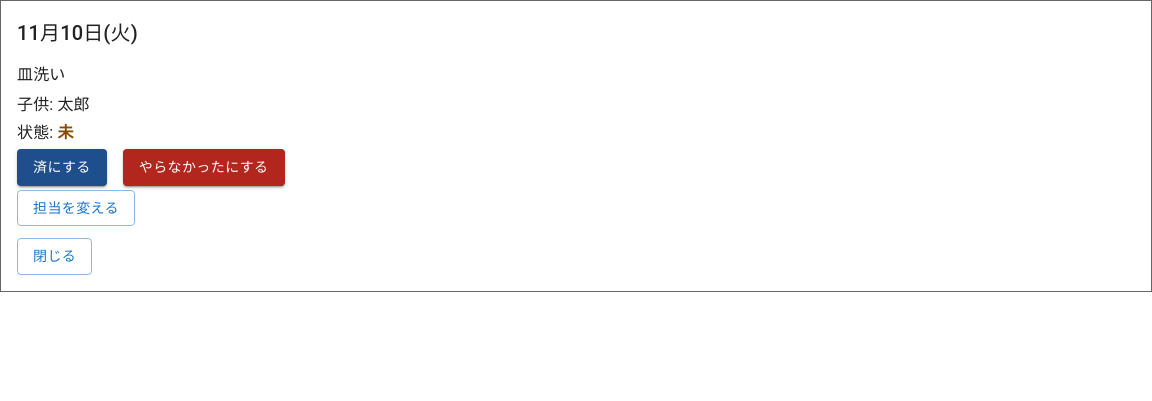
Test: DayDetail › 通信そのものが失敗したとき（status 0）は文言だけ出し、読み直しはしない
Click the button with test id "change-duty-button" at (76, 208), box x1=17 y1=190 x2=135 y2=226
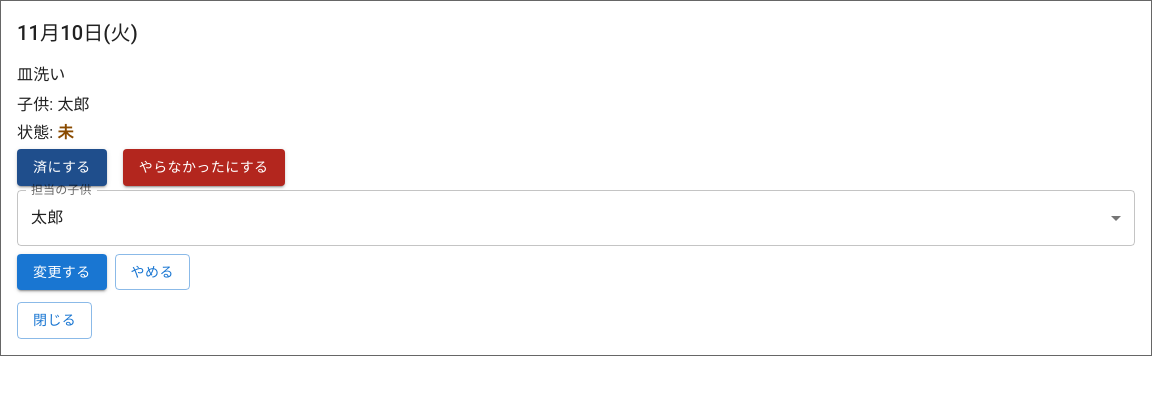
Select "次郎" in the dropdown with test id "change-child-select" at (576, 218), box x1=17 y1=190 x2=1135 y2=246
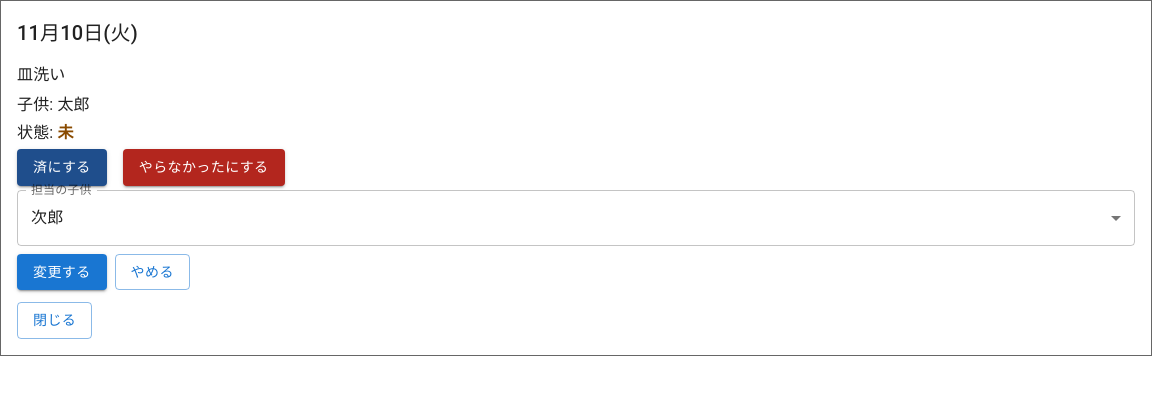
Click the button with test id "change-child-confirm-button" at (62, 272), box x1=17 y1=254 x2=107 y2=290
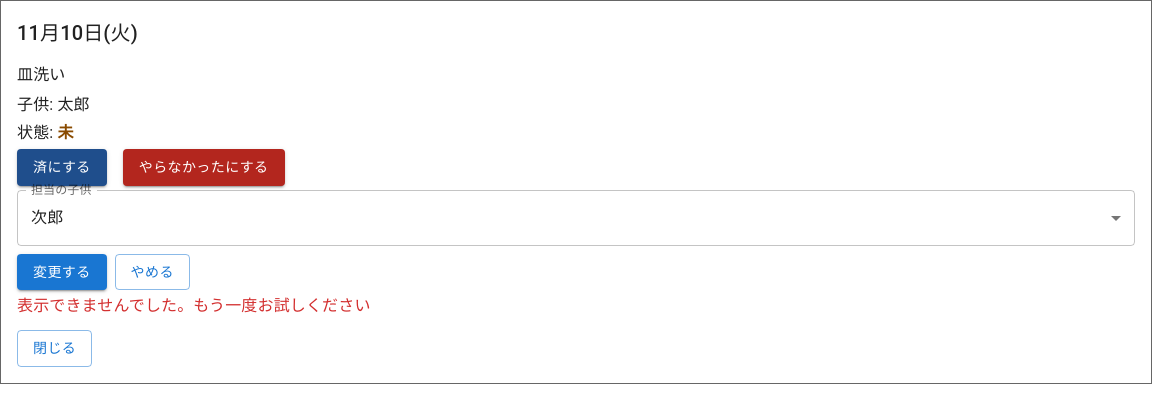
Expected: the message with test id "change-error" reads "表示できませんでした。もう一度お試しください", x1=17 y1=296 x2=370 y2=315
